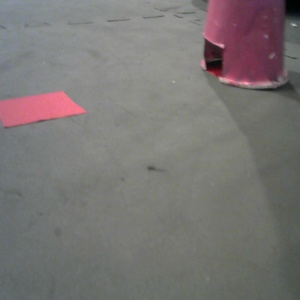Right: (207, 1, 271, 49)
